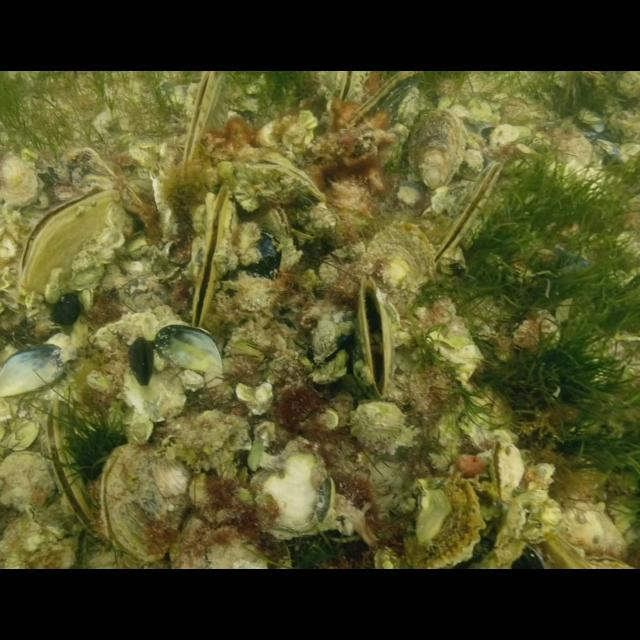Oyster-Closed: (98, 442, 190, 562), (360, 220, 436, 320), (402, 108, 468, 194), (346, 71, 426, 133)
Oyster-Open: (18, 182, 116, 292), (412, 478, 526, 568), (430, 158, 508, 266), (44, 398, 100, 542), (224, 151, 326, 217), (188, 186, 234, 330), (353, 270, 395, 402), (178, 70, 224, 180), (486, 437, 524, 497), (253, 203, 293, 240), (332, 71, 362, 109)
